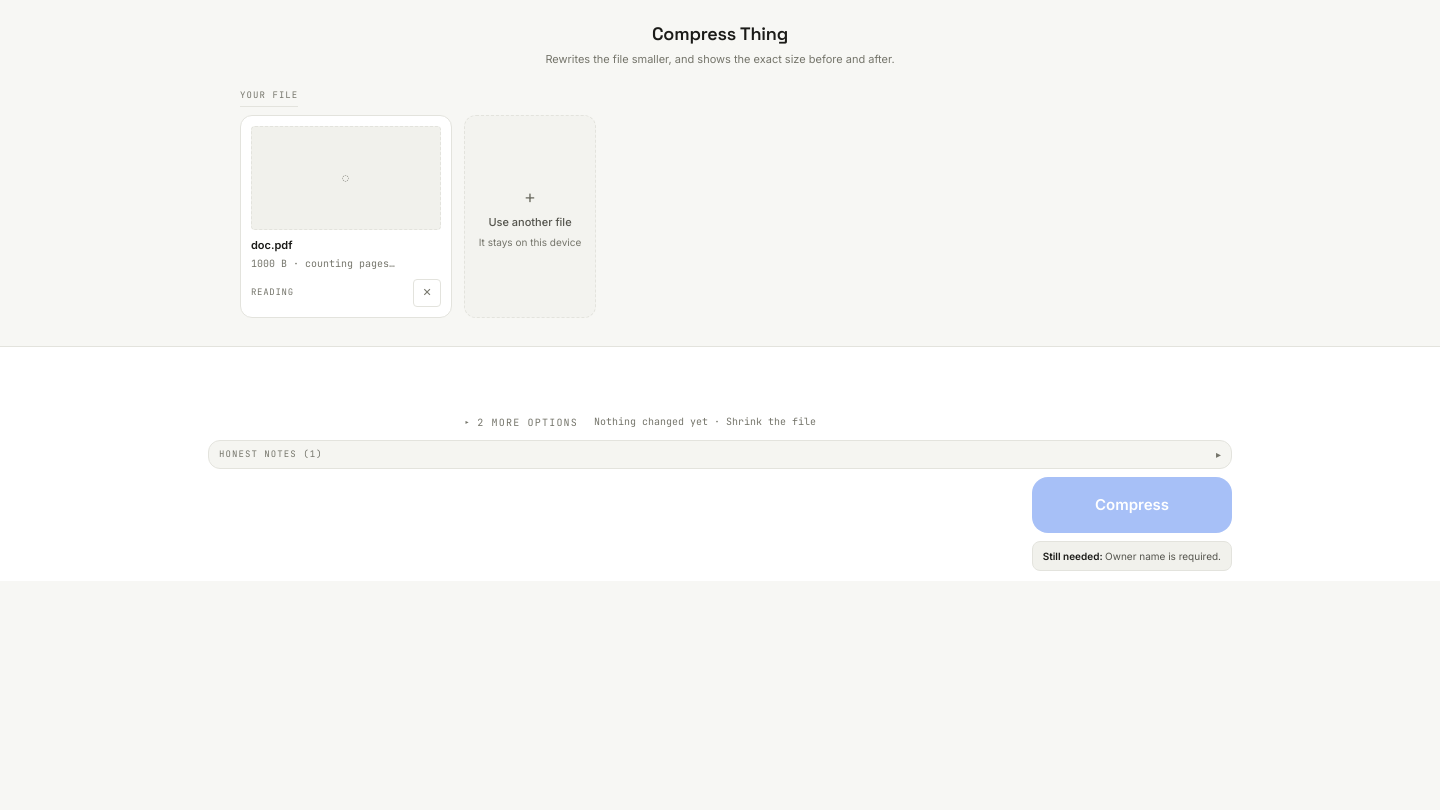
Test: PdfToolPanel › collapses the honesty notes until asked
Expected: the text "photos blur" is not shown
Click the button "Honest notes (1) ▸" at (264, 454), box [209, 441, 1231, 468]
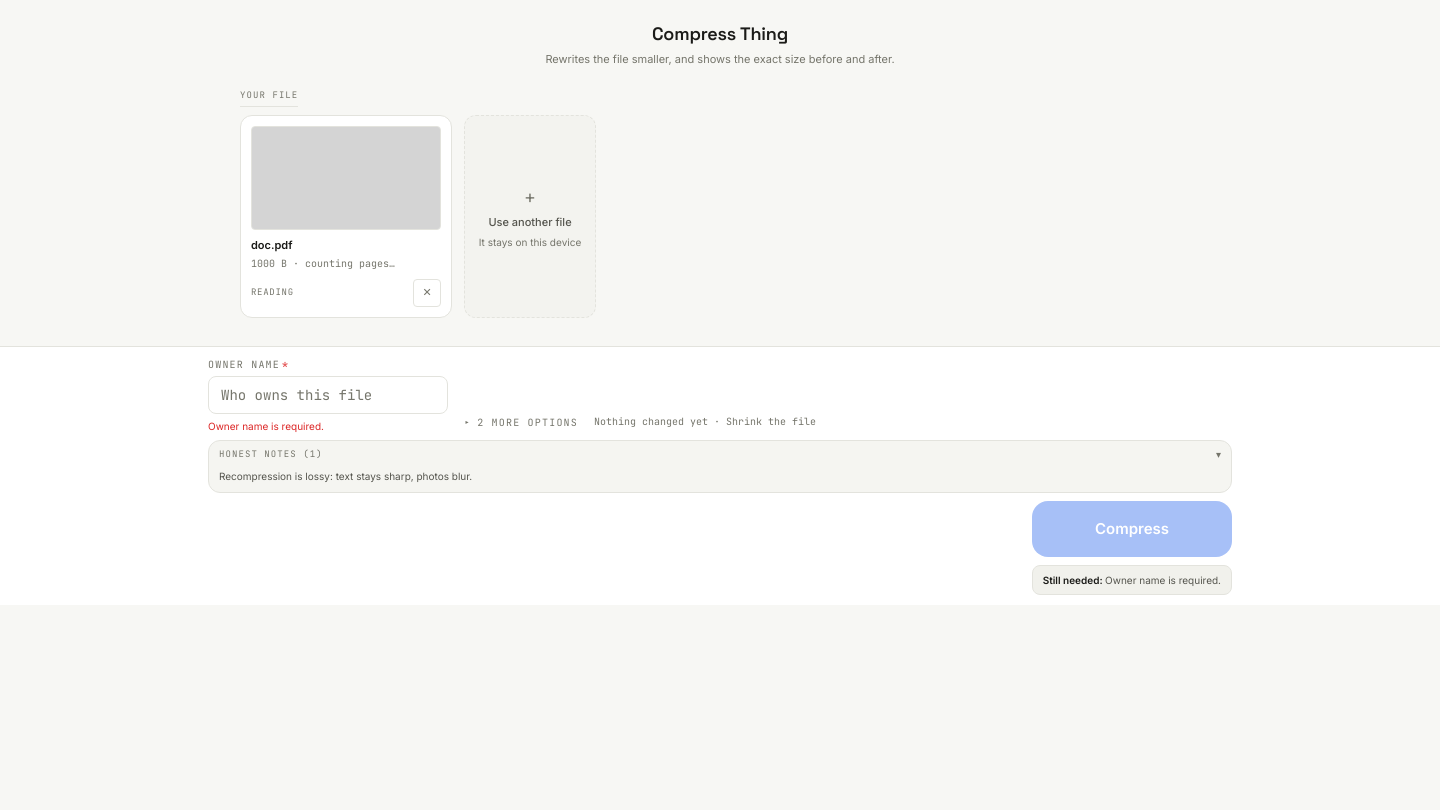
Result: the list item "Recompression is lossy: text stays sharp, photos blur." is shown at [219, 470, 472, 482]
